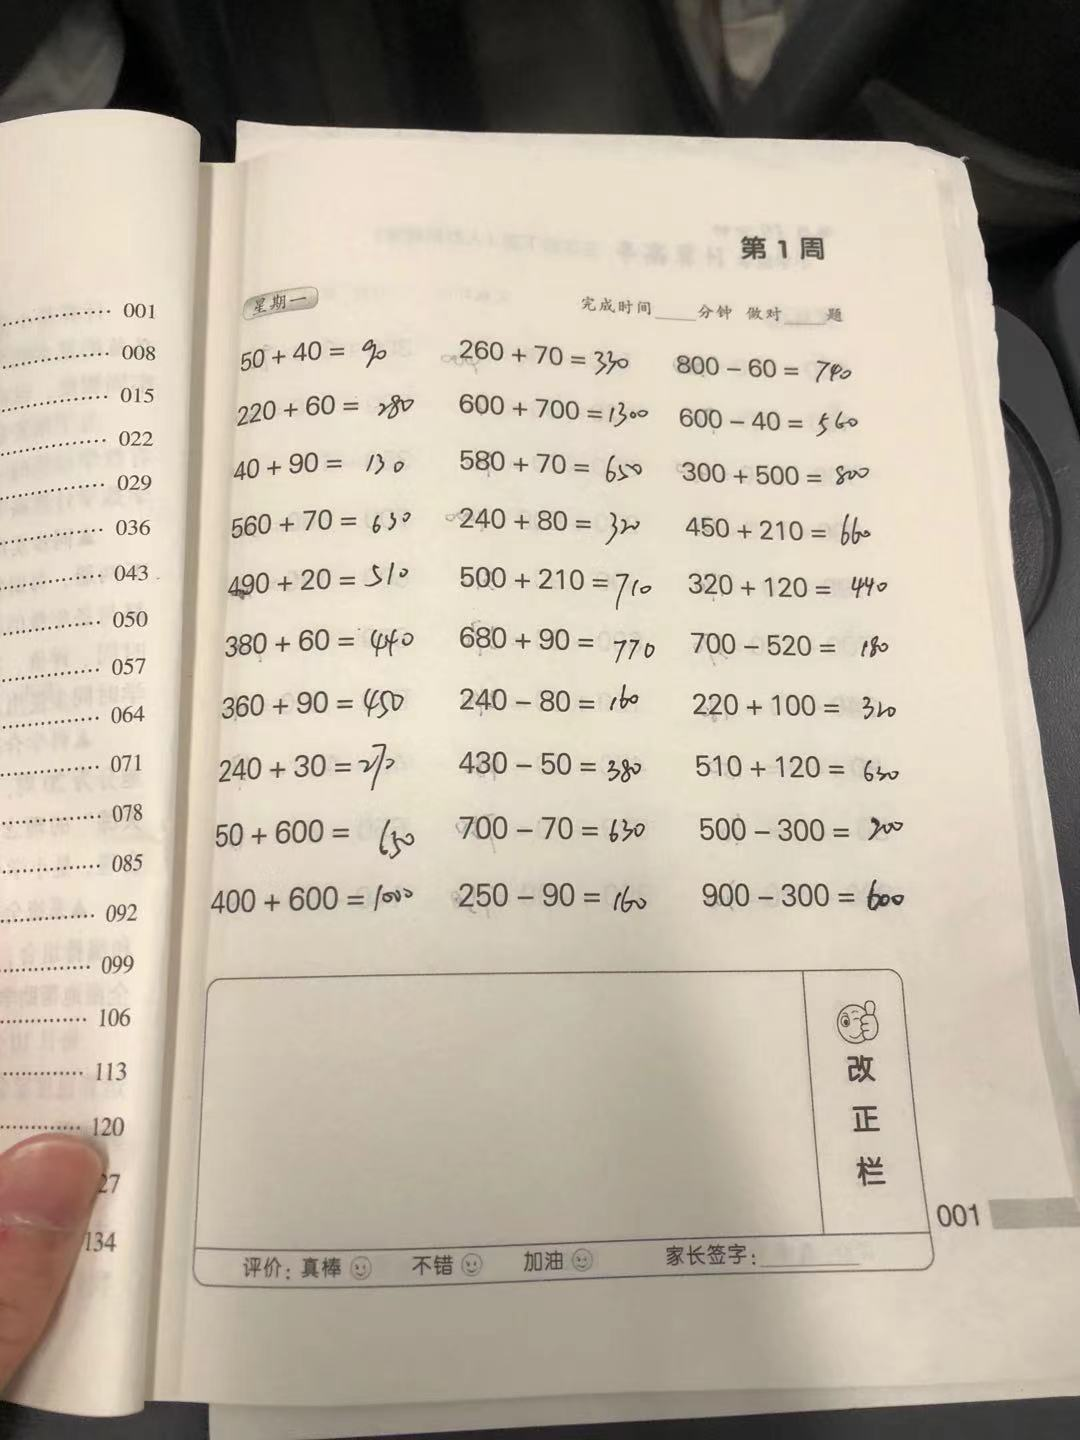equation: (201, 876, 445, 938), (213, 741, 439, 804), (685, 748, 931, 801), (461, 438, 662, 502), (211, 619, 448, 672), (216, 685, 448, 739), (457, 619, 674, 676), (211, 813, 450, 864), (451, 332, 662, 388), (450, 382, 656, 439), (685, 687, 921, 736), (454, 498, 664, 553), (688, 625, 914, 675), (691, 812, 930, 858), (454, 808, 674, 856), (456, 745, 661, 796), (696, 878, 930, 922), (219, 508, 441, 553), (454, 561, 668, 607), (456, 684, 668, 730), (681, 456, 887, 502), (222, 452, 433, 496), (224, 396, 439, 439), (677, 516, 891, 559), (457, 878, 657, 924), (668, 348, 871, 392), (217, 568, 445, 605), (222, 338, 425, 379), (684, 568, 901, 605), (674, 405, 867, 444)
